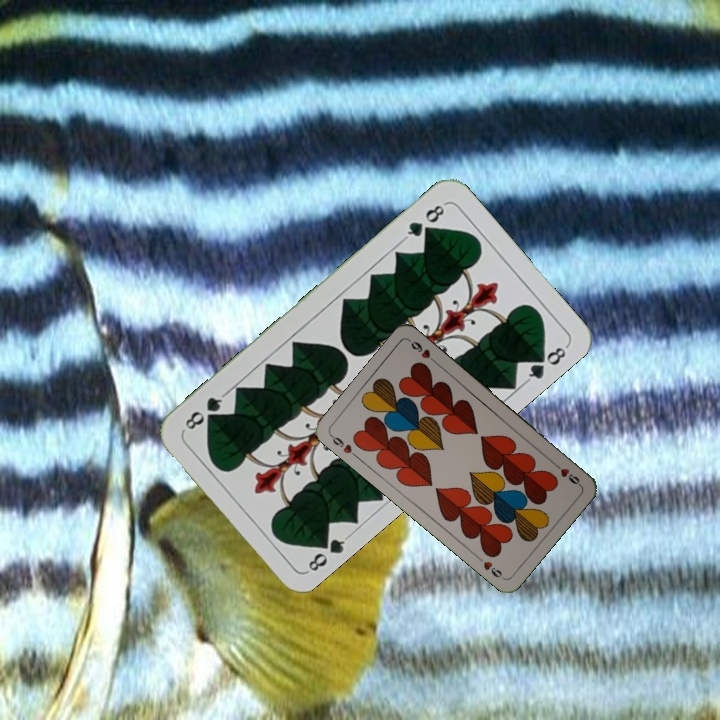G8: (303, 530, 352, 575), (400, 199, 449, 243)
H9: (549, 458, 583, 488), (326, 431, 354, 456)
